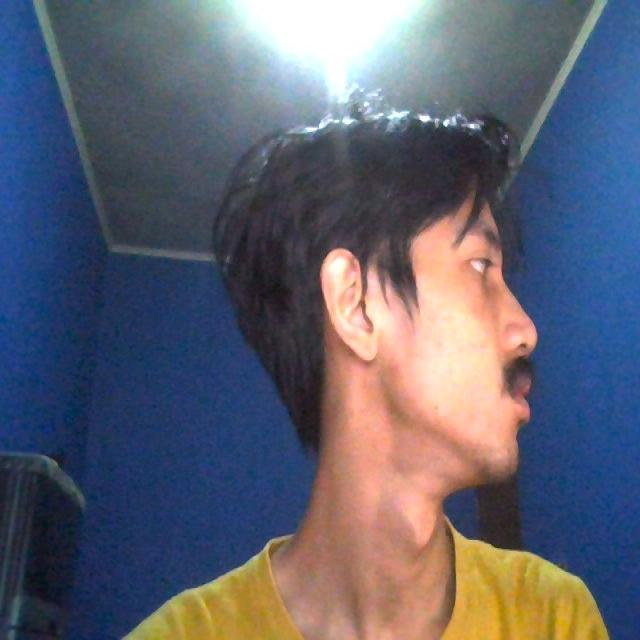melihat kekiri: (170, 88, 580, 502)
